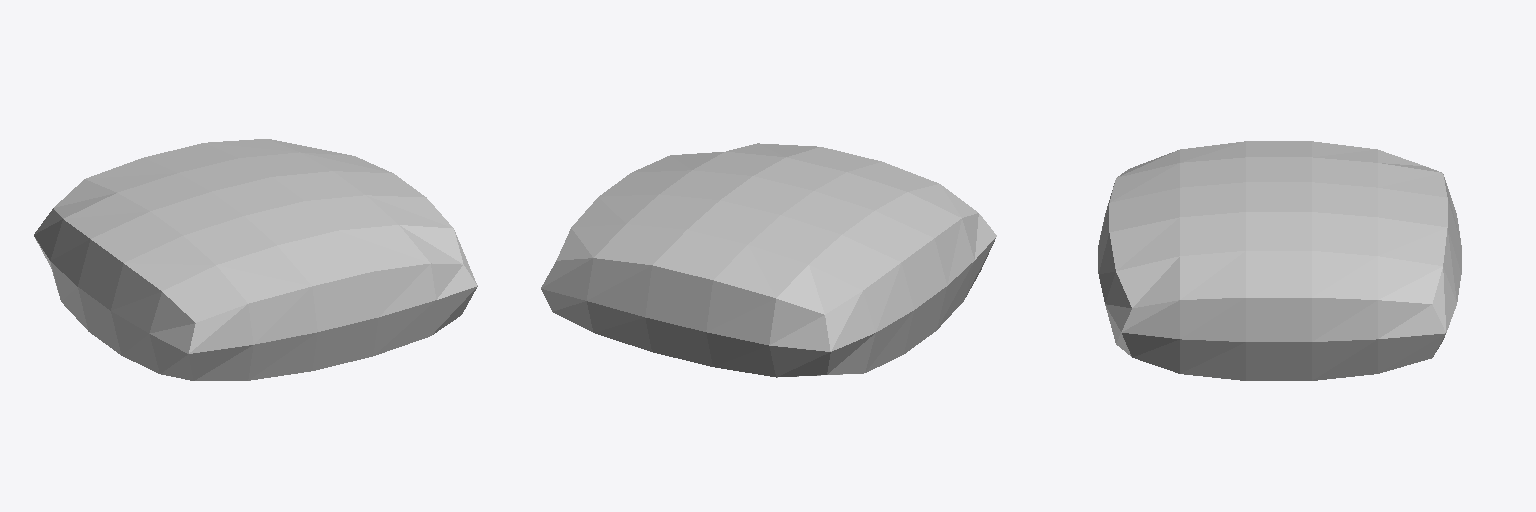
The model's file is Almohada.obj.
3 renders of one model, left to right at view 1: azimuth 30°, elevation 25°; view 2: azimuth 150°, elevation 25°; view 3: azimuth 270°, elevation 25°, orthographic.
Parts seen in each view (by area): view 1: Box031; view 2: Box031; view 3: Box031.
Boxes of the visible parts, x1,y1,x2,y2 form: Box031: [34, 139, 477, 380]; Box031: [541, 143, 996, 377]; Box031: [1098, 141, 1461, 380].
Bounding box in the file's own units: 26.04 × 9.15 × 25.23.